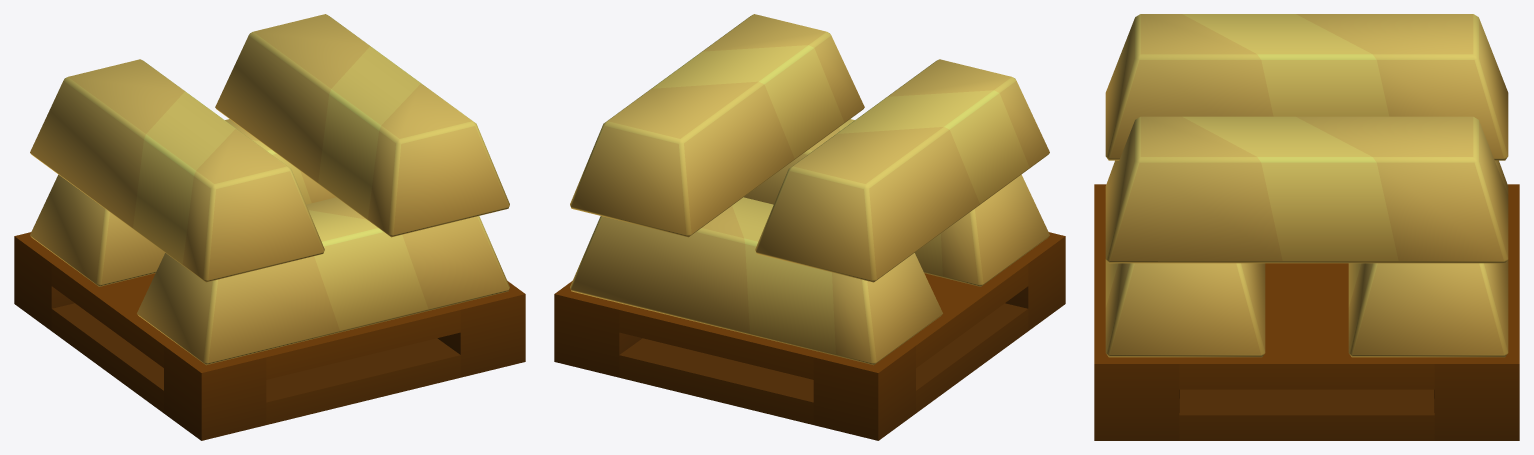
The model's file is Ingot_Gold_3.glb.
3 renders of one model, left to right at view 1: azimuth 30°, elevation 25°; view 2: azimuth 150°, elevation 25°; view 3: azimuth 270°, elevation 25°, orthographic. The views are drawn at different scales.
Parts seen in each view (by area): view 1: Ingot_Gold_3; view 2: Ingot_Gold_3; view 3: Ingot_Gold_3.
Boxes of the visible parts, x1,y1,x2,y2 form: Ingot_Gold_3: (14, 14, 525, 440); Ingot_Gold_3: (554, 14, 1065, 440); Ingot_Gold_3: (1094, 14, 1519, 440).
Size of the model in its own units: 1.05 by 0.724 by 1.05.
